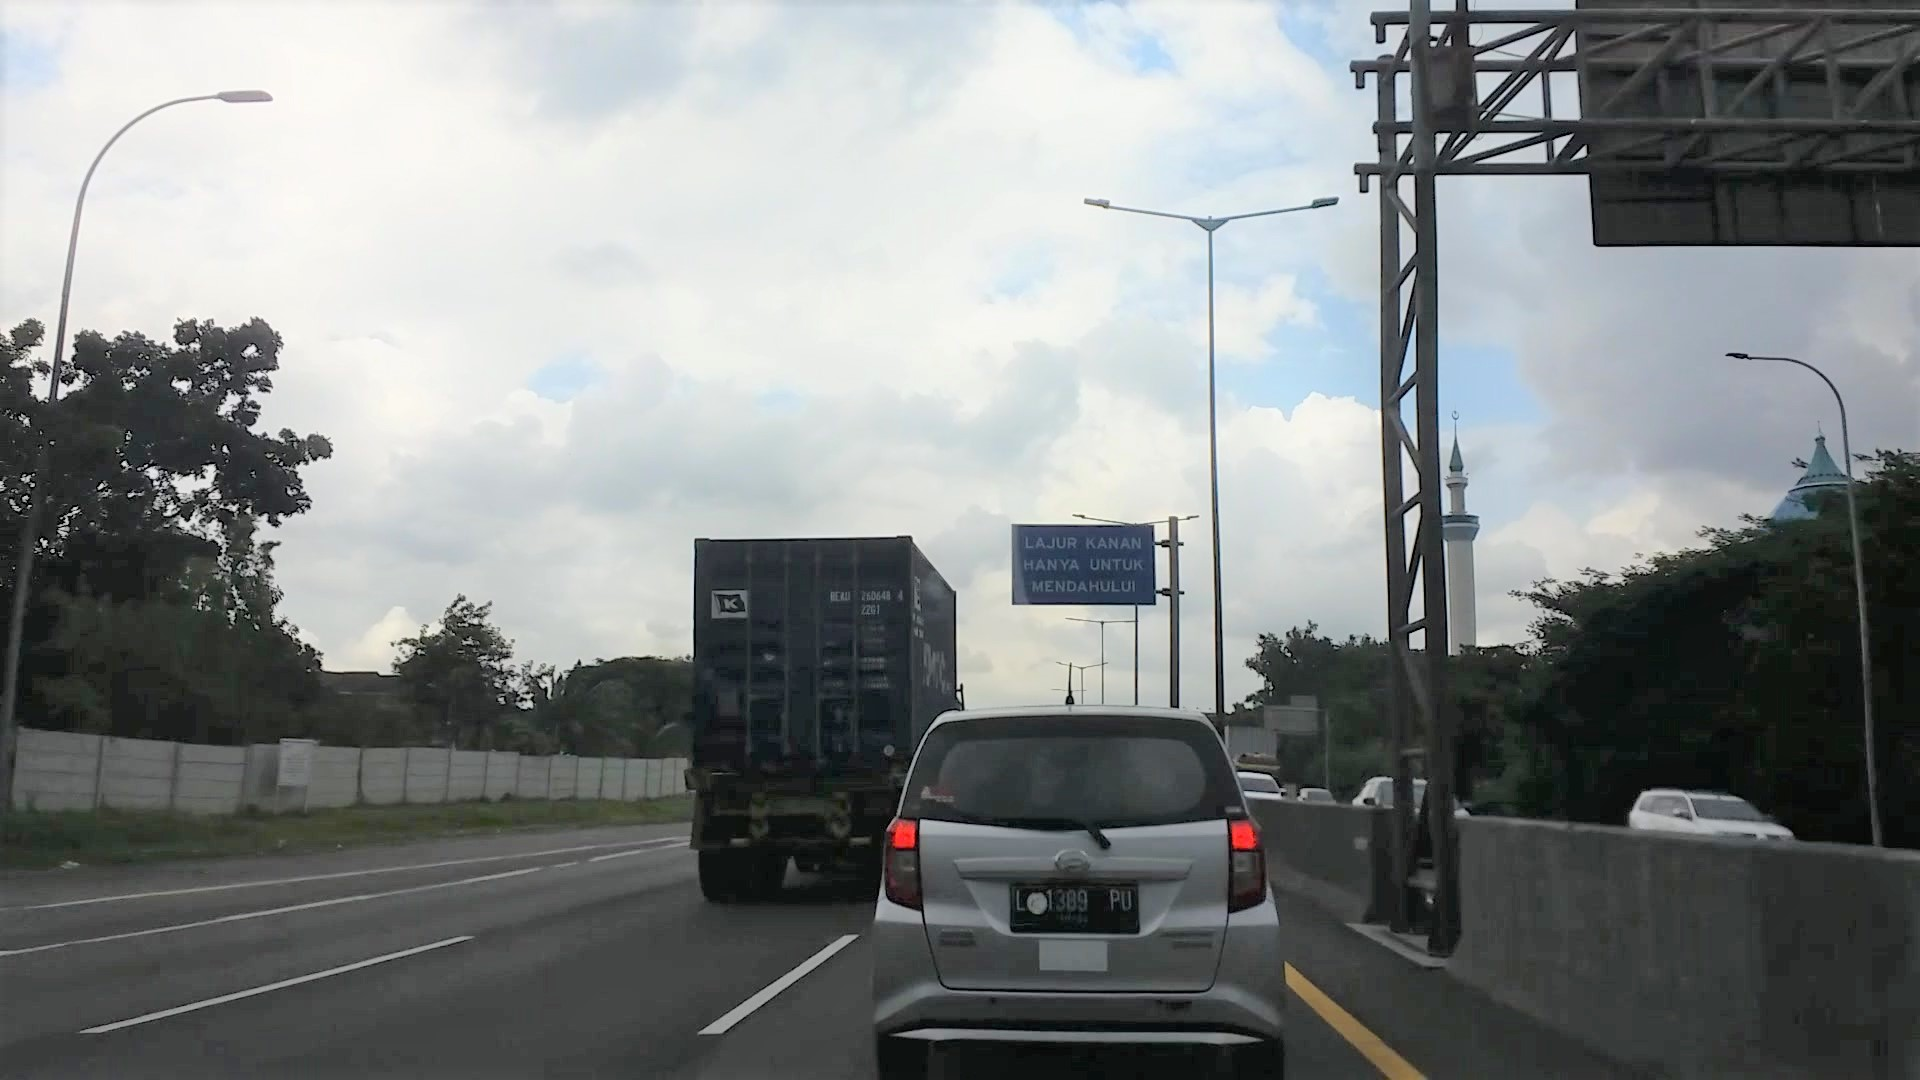plate_positive: (1009, 881, 1139, 935)
